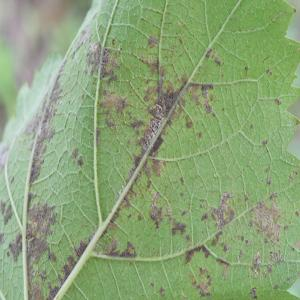Folha: (0, 0, 298, 298)
Fungo: (45, 43, 217, 298), (148, 188, 285, 298), (25, 198, 56, 264), (250, 199, 281, 247), (85, 40, 119, 83), (210, 190, 235, 229), (188, 266, 212, 297), (99, 237, 136, 257), (149, 192, 163, 230), (8, 232, 22, 261), (71, 146, 84, 168), (172, 218, 186, 236), (211, 230, 222, 246), (184, 249, 194, 265), (148, 34, 158, 48), (249, 286, 257, 298), (186, 115, 193, 128), (221, 242, 230, 252), (71, 146, 78, 158), (236, 248, 242, 261), (158, 285, 165, 296), (205, 48, 212, 58), (274, 97, 282, 105), (214, 57, 221, 66), (77, 156, 83, 166), (261, 138, 268, 146), (265, 67, 272, 75), (201, 212, 208, 220), (266, 176, 272, 184), (197, 130, 202, 138), (180, 176, 184, 184), (290, 174, 294, 182), (273, 284, 278, 290), (264, 166, 268, 172), (244, 66, 248, 71), (250, 123, 253, 129)
